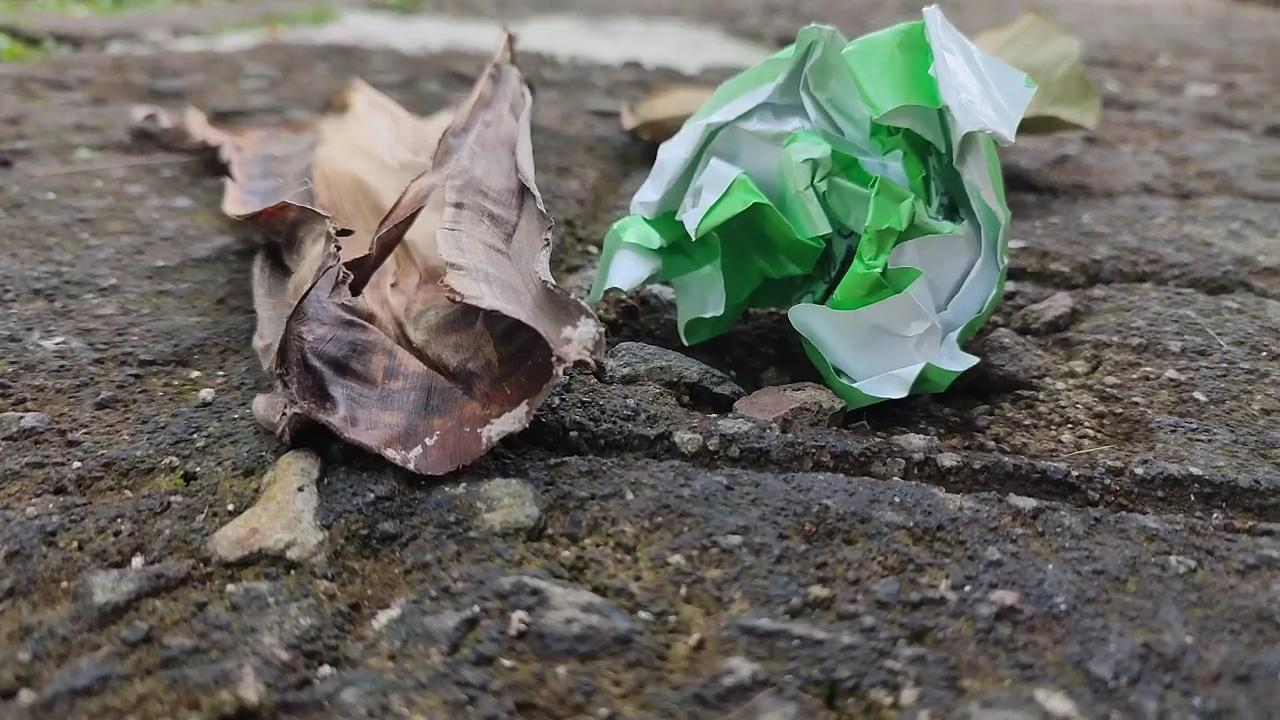Paper: (561, 0, 1046, 423)
